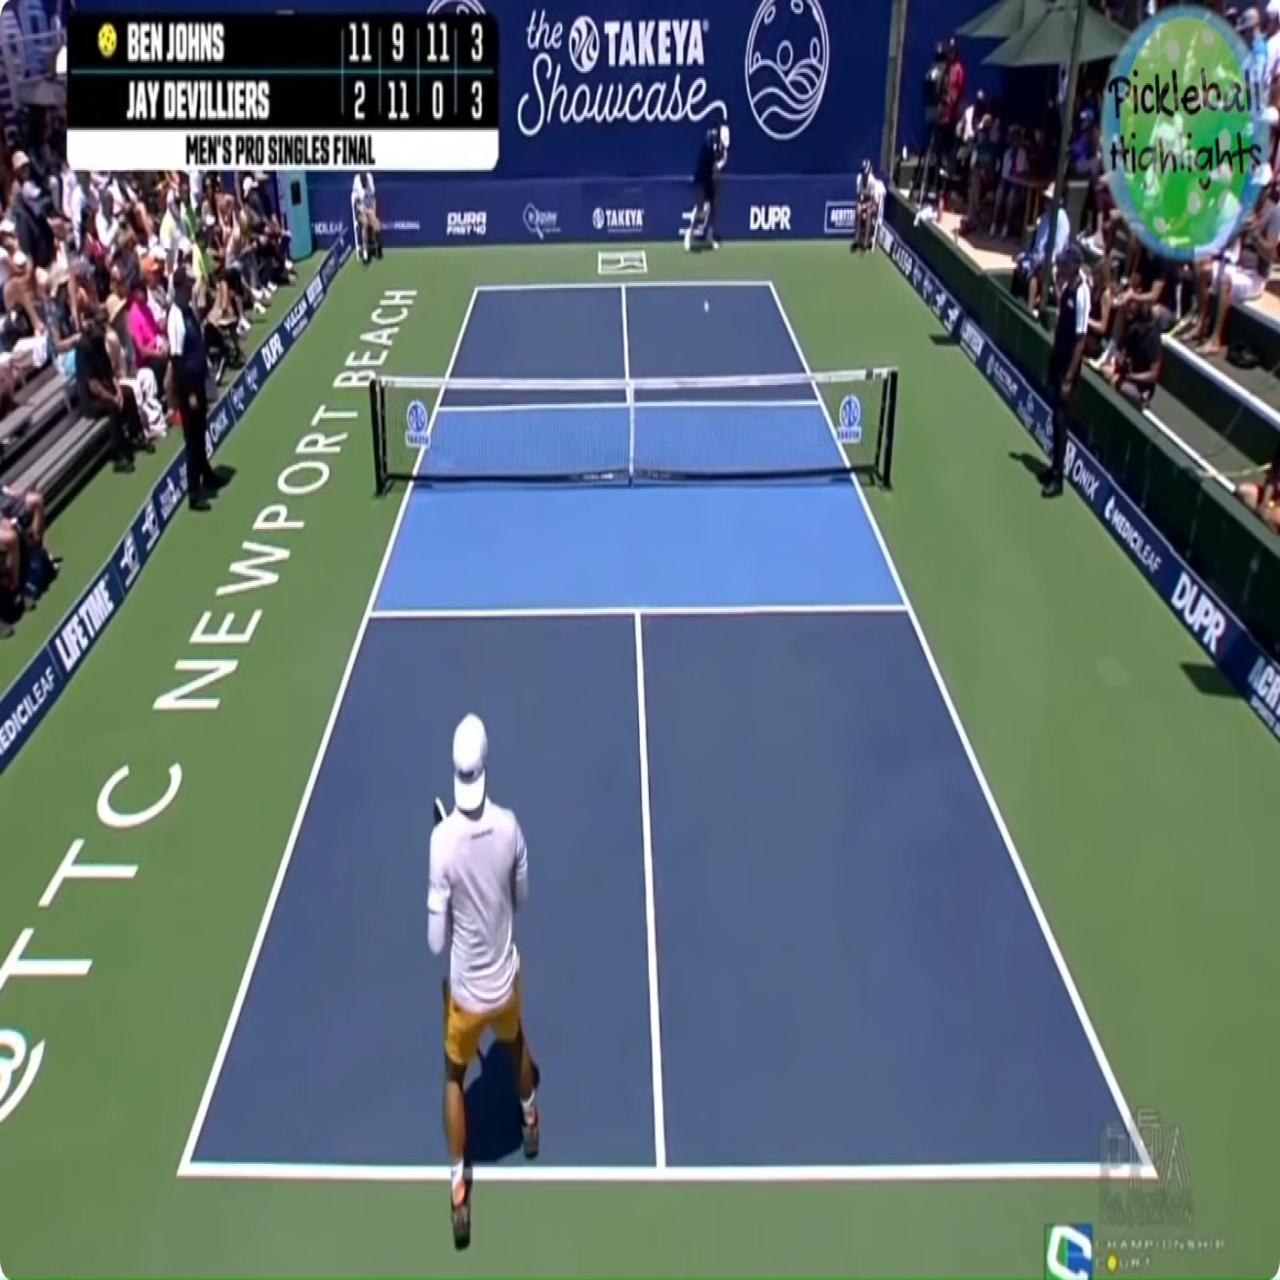pickleball: (703, 299, 710, 313)
